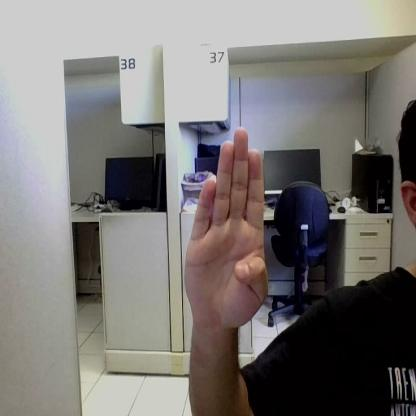B: (184, 126, 268, 323)
